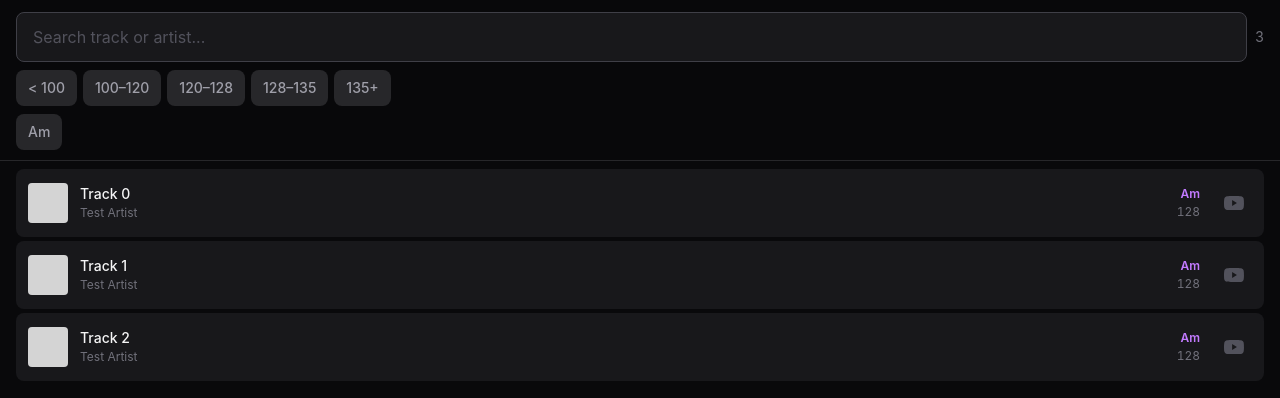
Scenario: App — pagination › shows no tracks message when filter returns nothing
The image size is (1280, 398).
In the field with placeholder "Search track or artist...": x=631, y=37 top-left (16, 12), bottom-right (1247, 62), type "zzznomatch"
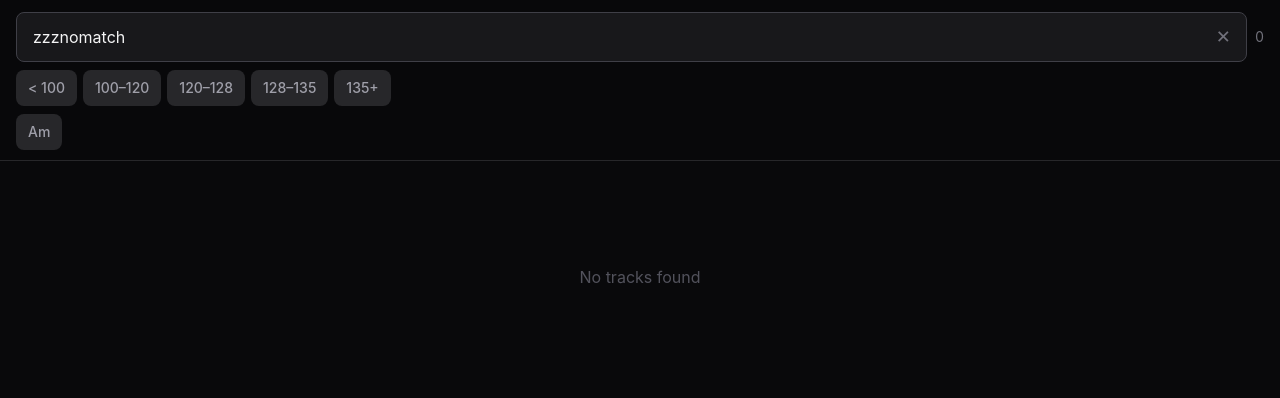
Result: the text "No tracks found" is shown at top-left (580, 267), bottom-right (700, 287)
